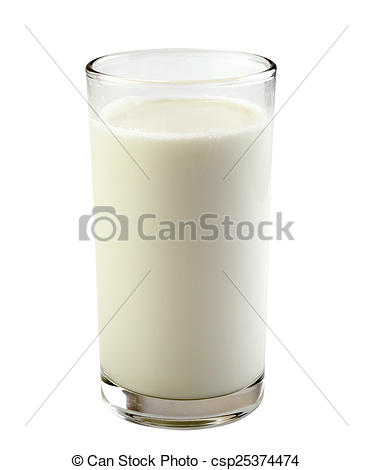glass of milk: (90, 67, 268, 421)
